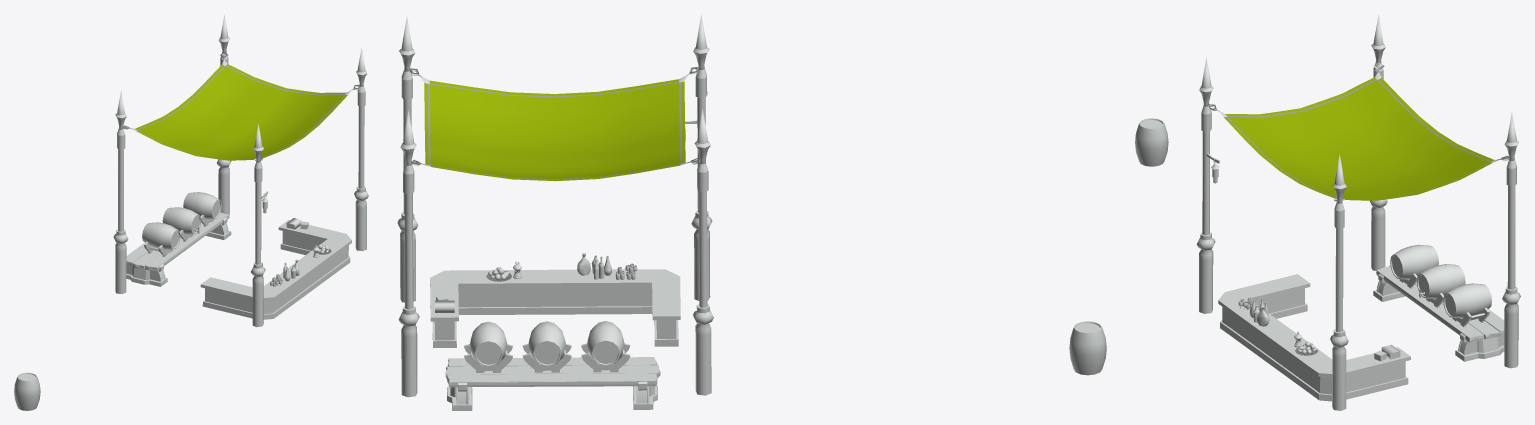
3 views of the same model, side by side, from view 1: azimuth 30°, elevation 25°; view 2: azimuth 150°, elevation 25°; view 3: azimuth 270°, elevation 25° (orthographic). The views are drawn at different scales.
Visible parts, largest first — view 1: G:\FFXIV-MapTools\exports\n4f1\bg\ex3\01_nvt_n4\fld\n4f1\bgp (×7); view 2: G:\FFXIV-MapTools\exports\n4f1\bg\ex3\01_nvt_n4\fld\n4f1\bgp (×8); view 3: G:\FFXIV-MapTools\exports\n4f1\bg\ex3\01_nvt_n4\fld\n4f1\bgp (×8).
Part boxes in pixels (x1,y1,x2,y2): G:\FFXIV-MapTools\exports\n4f1\bg\ex3\01_nvt_n4\fld\n4f1\bgp (×7): (14, 14, 368, 410); G:\FFXIV-MapTools\exports\n4f1\bg\ex3\01_nvt_n4\fld\n4f1\bgp (×8): (397, 14, 1106, 410); G:\FFXIV-MapTools\exports\n4f1\bg\ex3\01_nvt_n4\fld\n4f1\bgp (×8): (1135, 15, 1520, 410).
Bounding box in the file's own units: 9.59 × 4.43 × 5.95.
